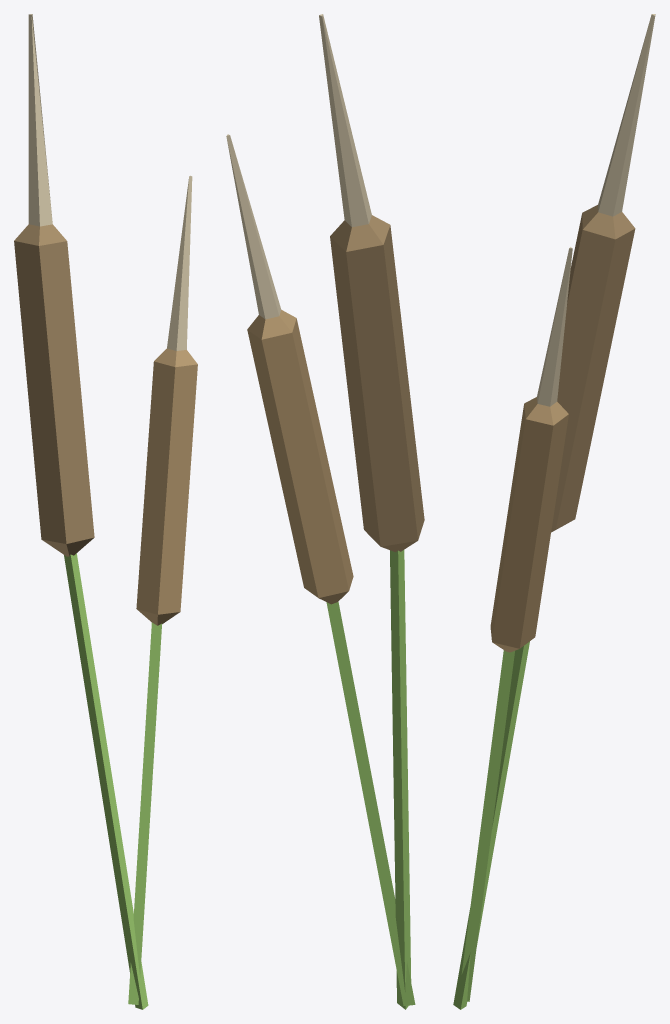
Rendered from Reed_b_02.fbx.
The picture shows the model from 3 angles, left to right: view 1: azimuth 30°, elevation 25°; view 2: azimuth 150°, elevation 25°; view 3: azimuth 270°, elevation 25°; orthographic projection. The views are drawn at different scales.
Visible parts, largest first — view 1: Reed_b_02; view 2: Reed_b_02; view 3: Reed_b_02.
Boxes of the visible parts, x1,y1,x2,y2 form: Reed_b_02: (14, 14, 197, 1009); Reed_b_02: (226, 14, 424, 1009); Reed_b_02: (453, 14, 655, 1009).
Size of the model in its own units: 19.46 by 110 by 20.46.
